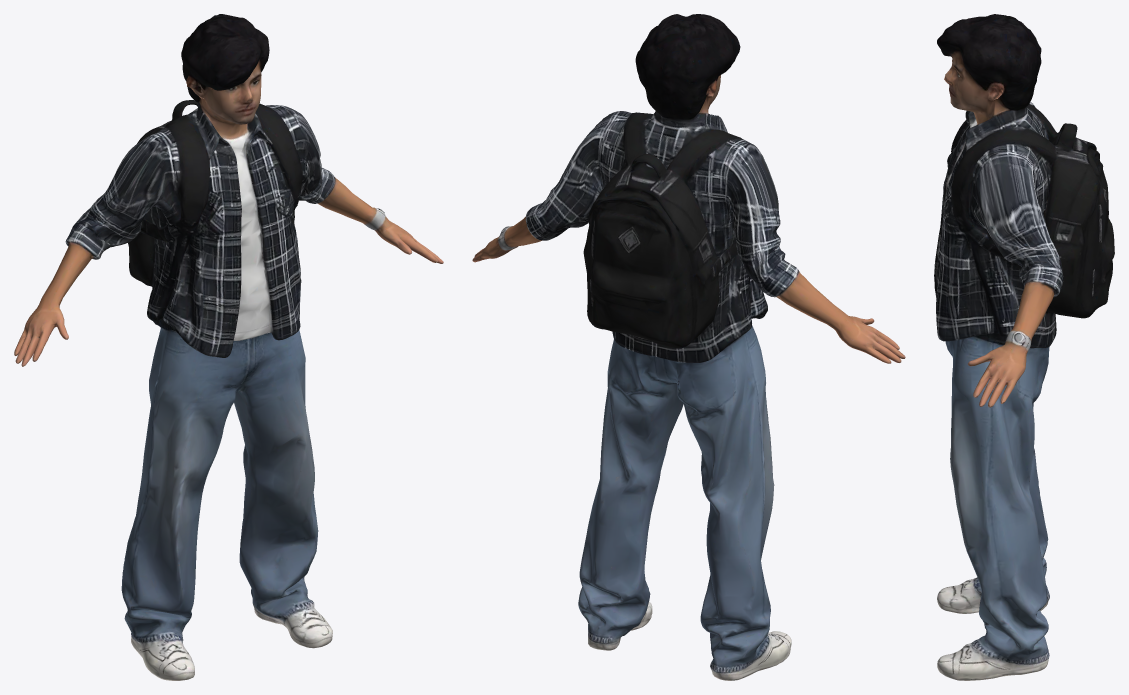
The model's file is npc-collegestudent.glb.
3 views of the same model, side by side, from view 1: azimuth 30°, elevation 25°; view 2: azimuth 150°, elevation 25°; view 3: azimuth 270°, elevation 25° (orthographic).
Parts seen in each view (by area): view 1: SK_NPC_CollegeStudent; view 2: SK_NPC_CollegeStudent; view 3: SK_NPC_CollegeStudent.
Boxes of the visible parts, <box> form: SK_NPC_CollegeStudent: <box>14,14,443,680</box>; SK_NPC_CollegeStudent: <box>472,14,905,680</box>; SK_NPC_CollegeStudent: <box>934,14,1114,680</box>.
Size of the model in its own units: 135 by 191 by 50.22.
Materials: 1 (1 with a texture image).
